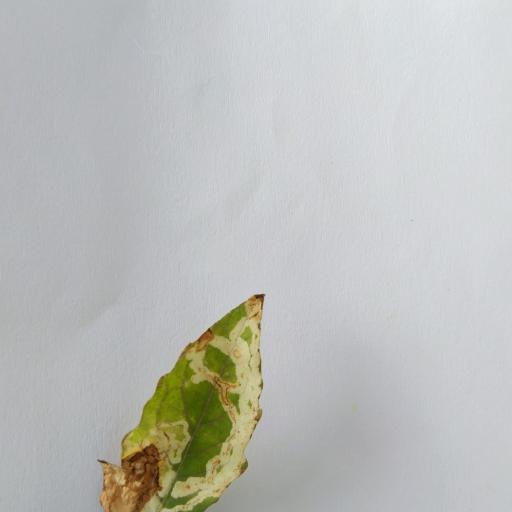disease_tomato: (94, 282, 268, 512)
